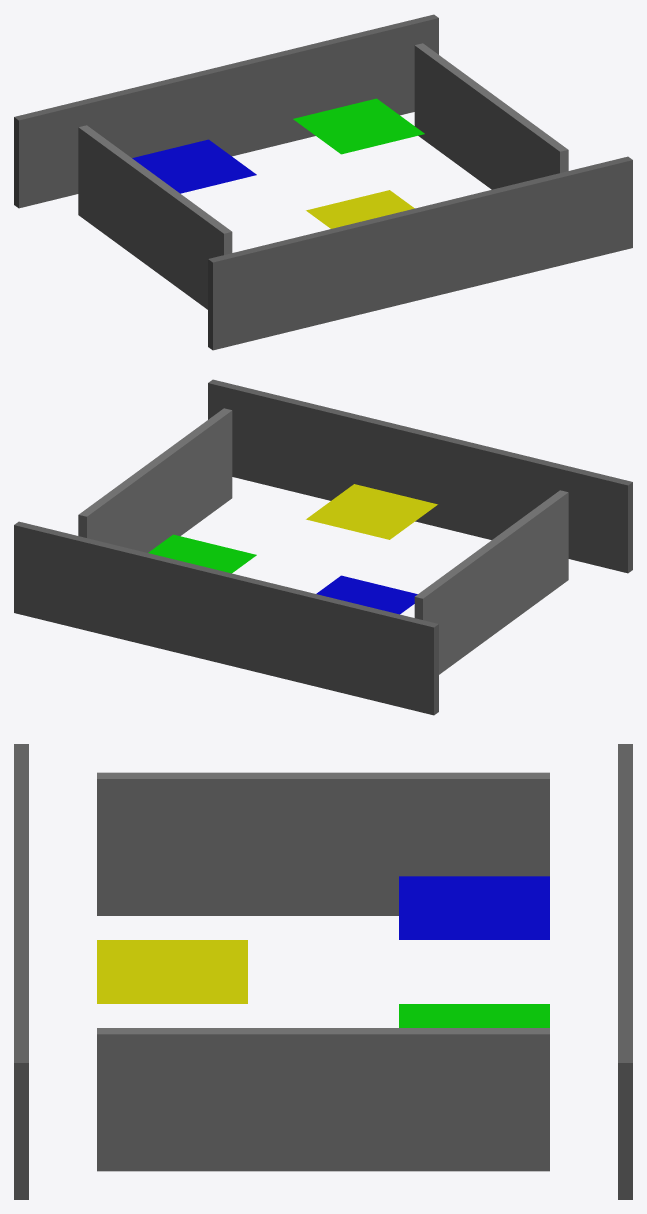
File: map.glb
3 views of the same model, one above another, from view 1: azimuth 30°, elevation 25°; view 2: azimuth 150°, elevation 25°; view 3: azimuth 270°, elevation 25° (orthographic). The views are drawn at different scales.
Visible parts, largest first — view 1: world; view 2: world; view 3: world.
Part boxes in pixels (x1=…): world: x1=14, y1=14, x2=632, y2=350; world: x1=14, y1=379, x2=632, y2=715; world: x1=14, y1=744, x2=632, y2=1199.
Size of the model in its own units: 5 by 1 by 4.1.
